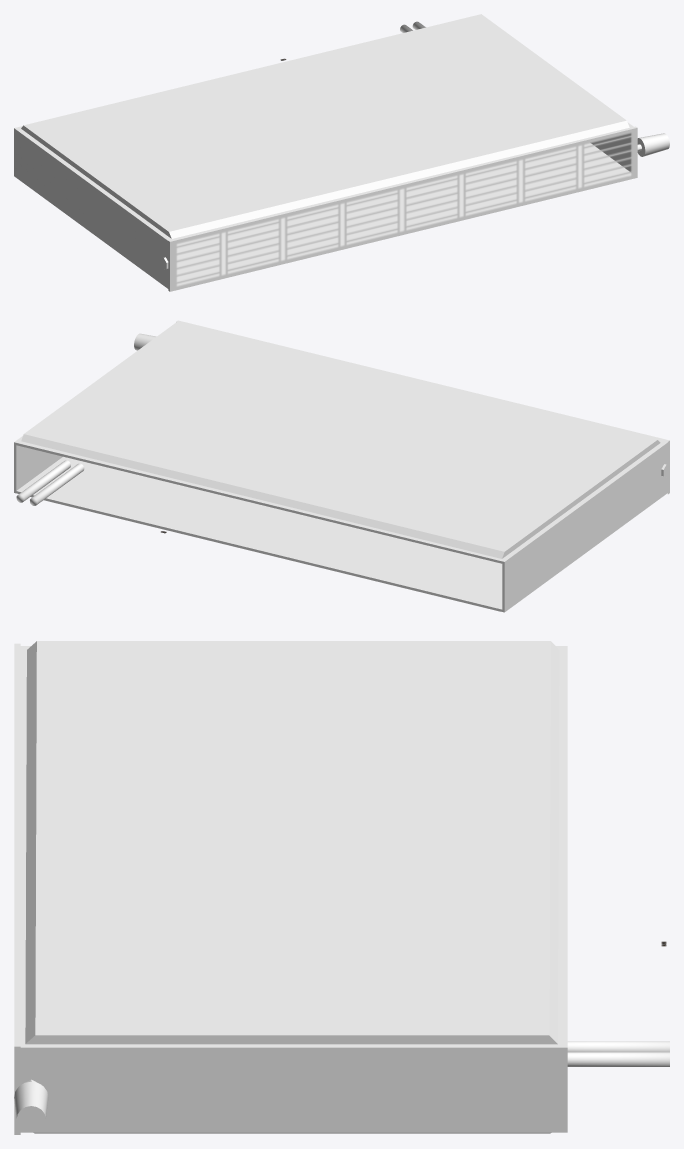
File: heating-radiator-i-low-poly---game-ready-456594.glb
The picture shows the model from 3 angles, top to bottom: view 1: azimuth 30°, elevation 25°; view 2: azimuth 150°, elevation 25°; view 3: azimuth 270°, elevation 25°; orthographic projection. The views are drawn at different scales.
Parts seen in each view (by area): view 1: PropMesh; view 2: PropMesh; view 3: PropMesh.
Part boxes in pixels (x1,y1,x2,y2): PropMesh: [14, 14, 669, 291]; PropMesh: [14, 320, 669, 612]; PropMesh: [14, 641, 669, 1134].
Size of the model in its own units: 19.88 by 2.2 by 12.74.
2 materials, 2 textured.
